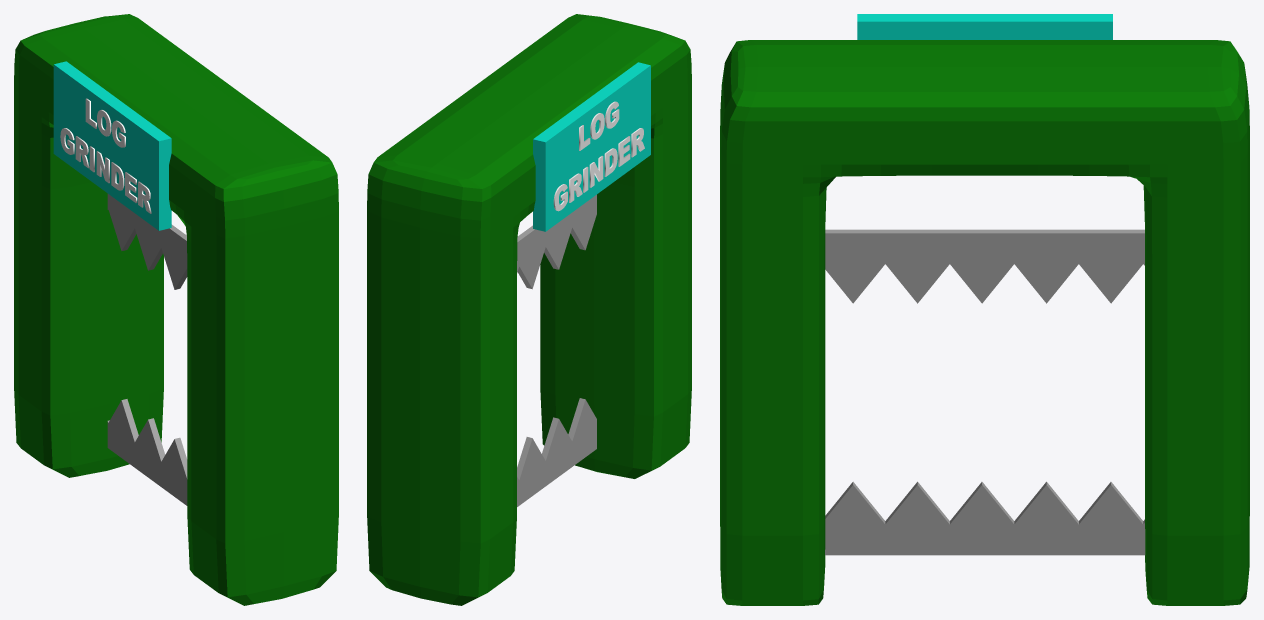
Rendered from LogGrinder.fbx.
3 renders of one model, left to right at view 1: azimuth 30°, elevation 25°; view 2: azimuth 150°, elevation 25°; view 3: azimuth 270°, elevation 25°, orthographic. The views are drawn at different scales.
Visible parts, largest first — view 1: Cube, Куб.002, Куб, Куб.001, Текст; view 2: Cube, Куб.002, Куб, Куб.001, Текст; view 3: Cube, Куб.001, Куб, Куб.002.
Part boxes in pixels (box(x1,y1,x2,y2)): Cube: box(14, 14, 338, 605); Куб.002: box(53, 61, 171, 230); Куб: box(107, 399, 187, 505); Куб.001: box(107, 194, 187, 289); Текст: box(60, 98, 151, 213); Cube: box(367, 14, 691, 605); Куб.002: box(533, 62, 650, 231); Куб: box(517, 398, 596, 506); Куб.001: box(517, 194, 596, 289); Текст: box(553, 101, 644, 211); Cube: box(720, 40, 1249, 605); Куб.001: box(825, 229, 1144, 303); Куб: box(825, 481, 1145, 555); Куб.002: box(857, 14, 1112, 39).
Size of the model in its own units: 143 by 457 by 414.
